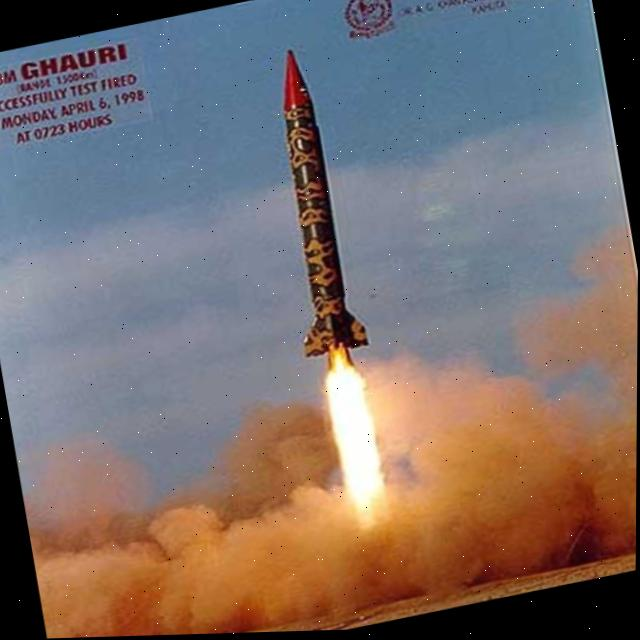missile: (254, 43, 374, 374)
